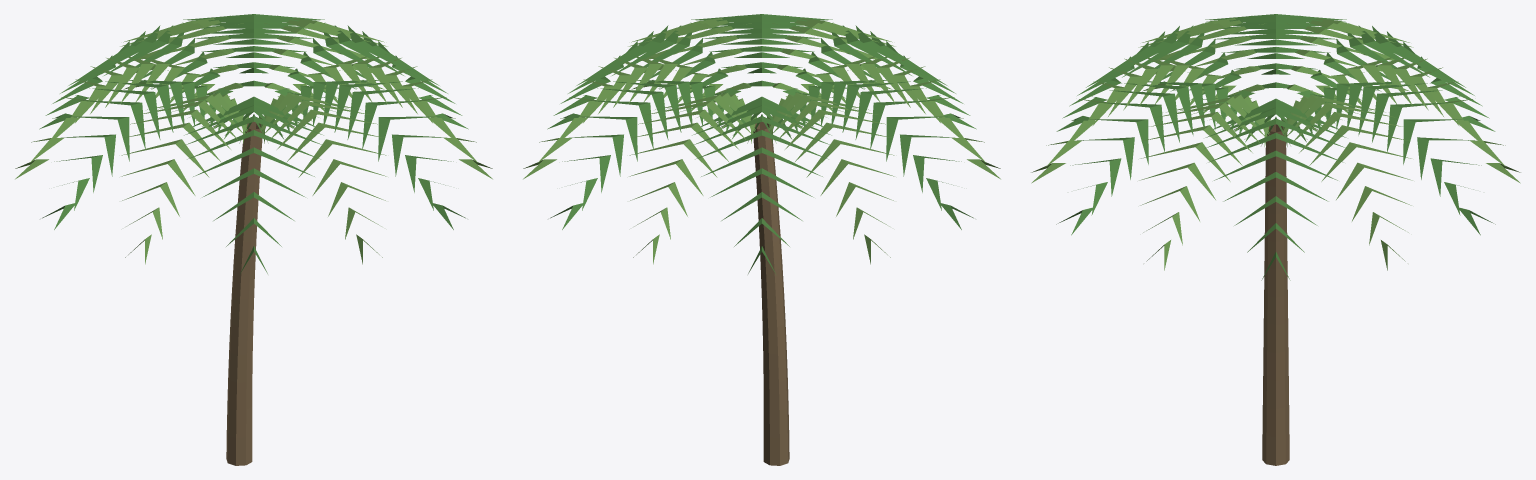
File: palm-mid.glb
The picture shows the model from 3 angles, left to right: view 1: azimuth 30°, elevation 25°; view 2: azimuth 150°, elevation 25°; view 3: azimuth 270°, elevation 25°; orthographic projection. The views are drawn at different scales.
Visible parts, largest first — view 1: Tropical palm - inferred scenery; view 2: Tropical palm - inferred scenery; view 3: Tropical palm - inferred scenery.
Part boxes in pixels (bbox=[...]): Tropical palm - inferred scenery: bbox=[15, 14, 492, 465]; Tropical palm - inferred scenery: bbox=[523, 14, 1000, 465]; Tropical palm - inferred scenery: bbox=[1031, 14, 1520, 465].
Size of the model in its own units: 1.11 by 1 by 1.11.
